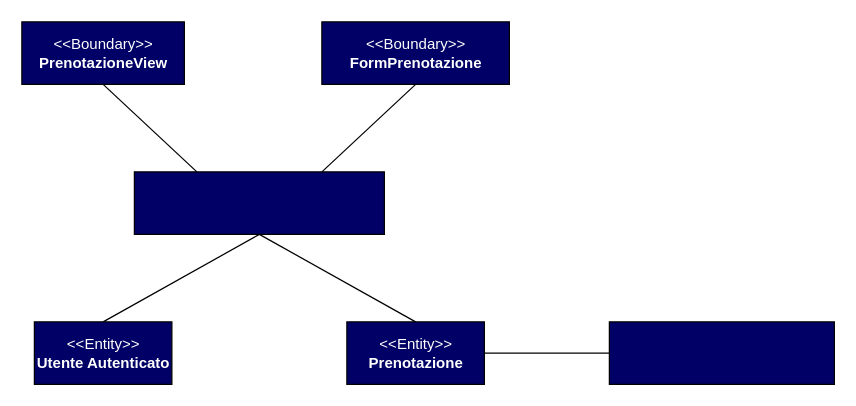
The diagram is 856 pixels wide and 406 high, and some of its shapes have lost their labels. Each missing label, with the centre of its shape:
"<<Control>> RichiestaPrenotazioneControl" belongs at point (258, 202).
"<<Entity>> PrenotazioniRepository" belongs at point (721, 352).
